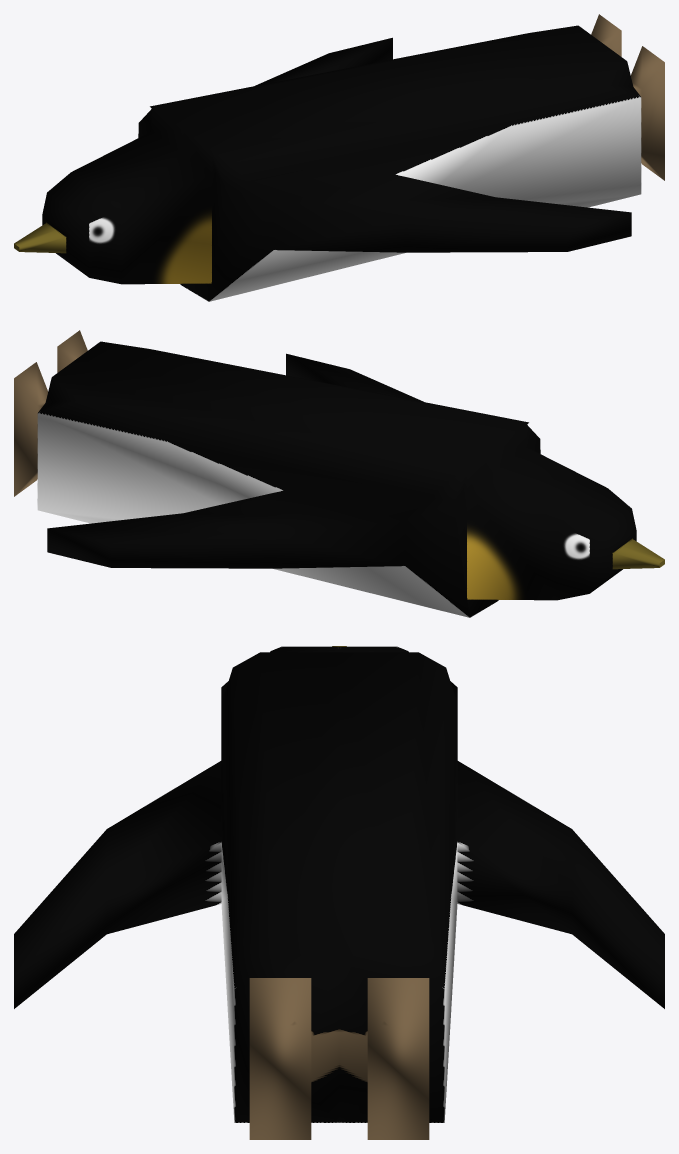
The model's file is ペンギン.fbx.
3 views of the same model, one above another, from view 1: azimuth 30°, elevation 25°; view 2: azimuth 150°, elevation 25°; view 3: azimuth 270°, elevation 25° (orthographic). The views are drawn at different scales.
Visible parts, largest first — view 1: 立方体; view 2: 立方体; view 3: 立方体.
Part boxes in pixels (left/top/right/bottom): 立方体: left=14, top=14, right=664, bottom=301; 立方体: left=14, top=330, right=664, bottom=617; 立方体: left=14, top=646, right=664, bottom=1139.
Bounding box in the file's own units: 2.94 × 0.7171 × 1.98.
